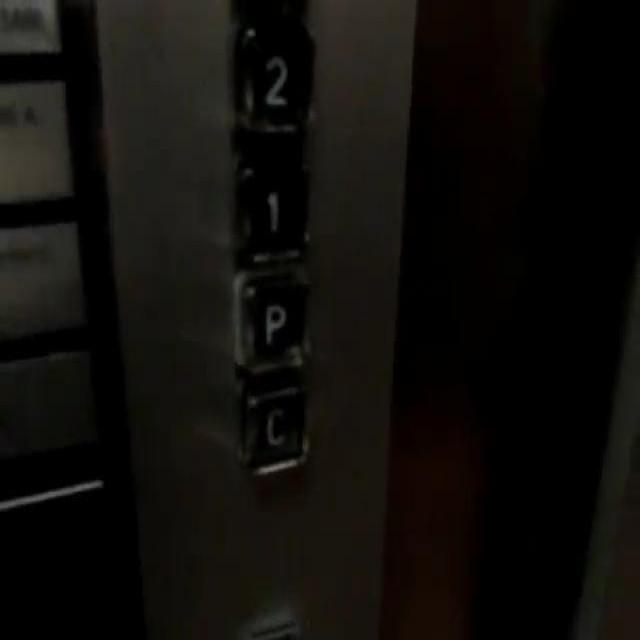1: (224, 153, 310, 270)
2: (225, 20, 316, 137)
C: (235, 375, 317, 485)
P: (229, 266, 316, 378)
